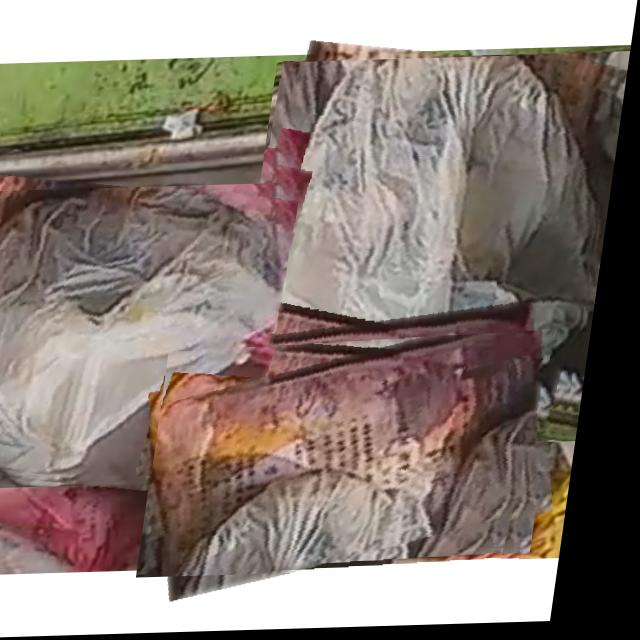other_trashbag: (254, 60, 602, 436), (167, 336, 552, 577), (0, 189, 292, 478)
